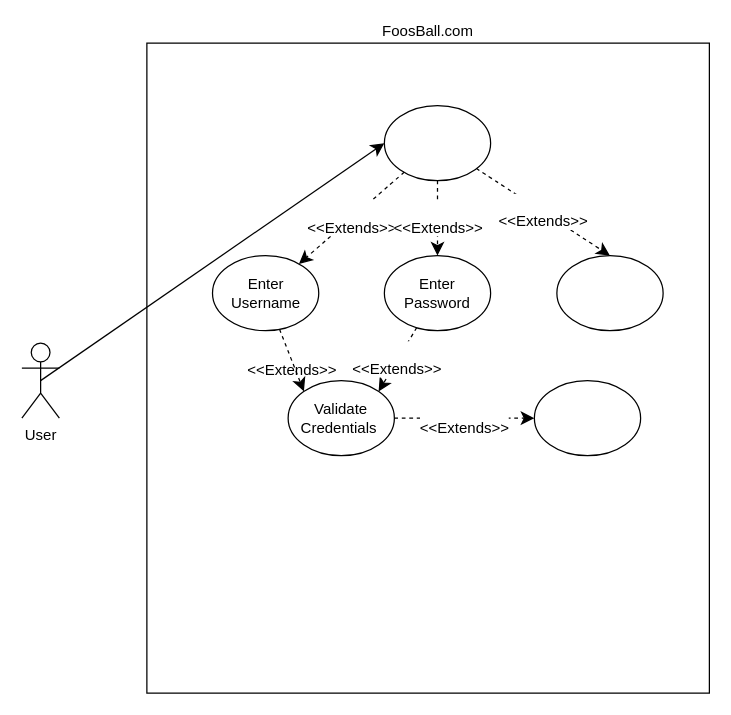
The diagram is 731 pixels wide and 715 high, and some of its shapes have lost their labels. Each missing label, with the centre of its shape:
"Click Login" belongs at (x=609, y=292).
"Log In" belongs at (x=437, y=142).
"Show Error Message" belongs at (x=587, y=417).
